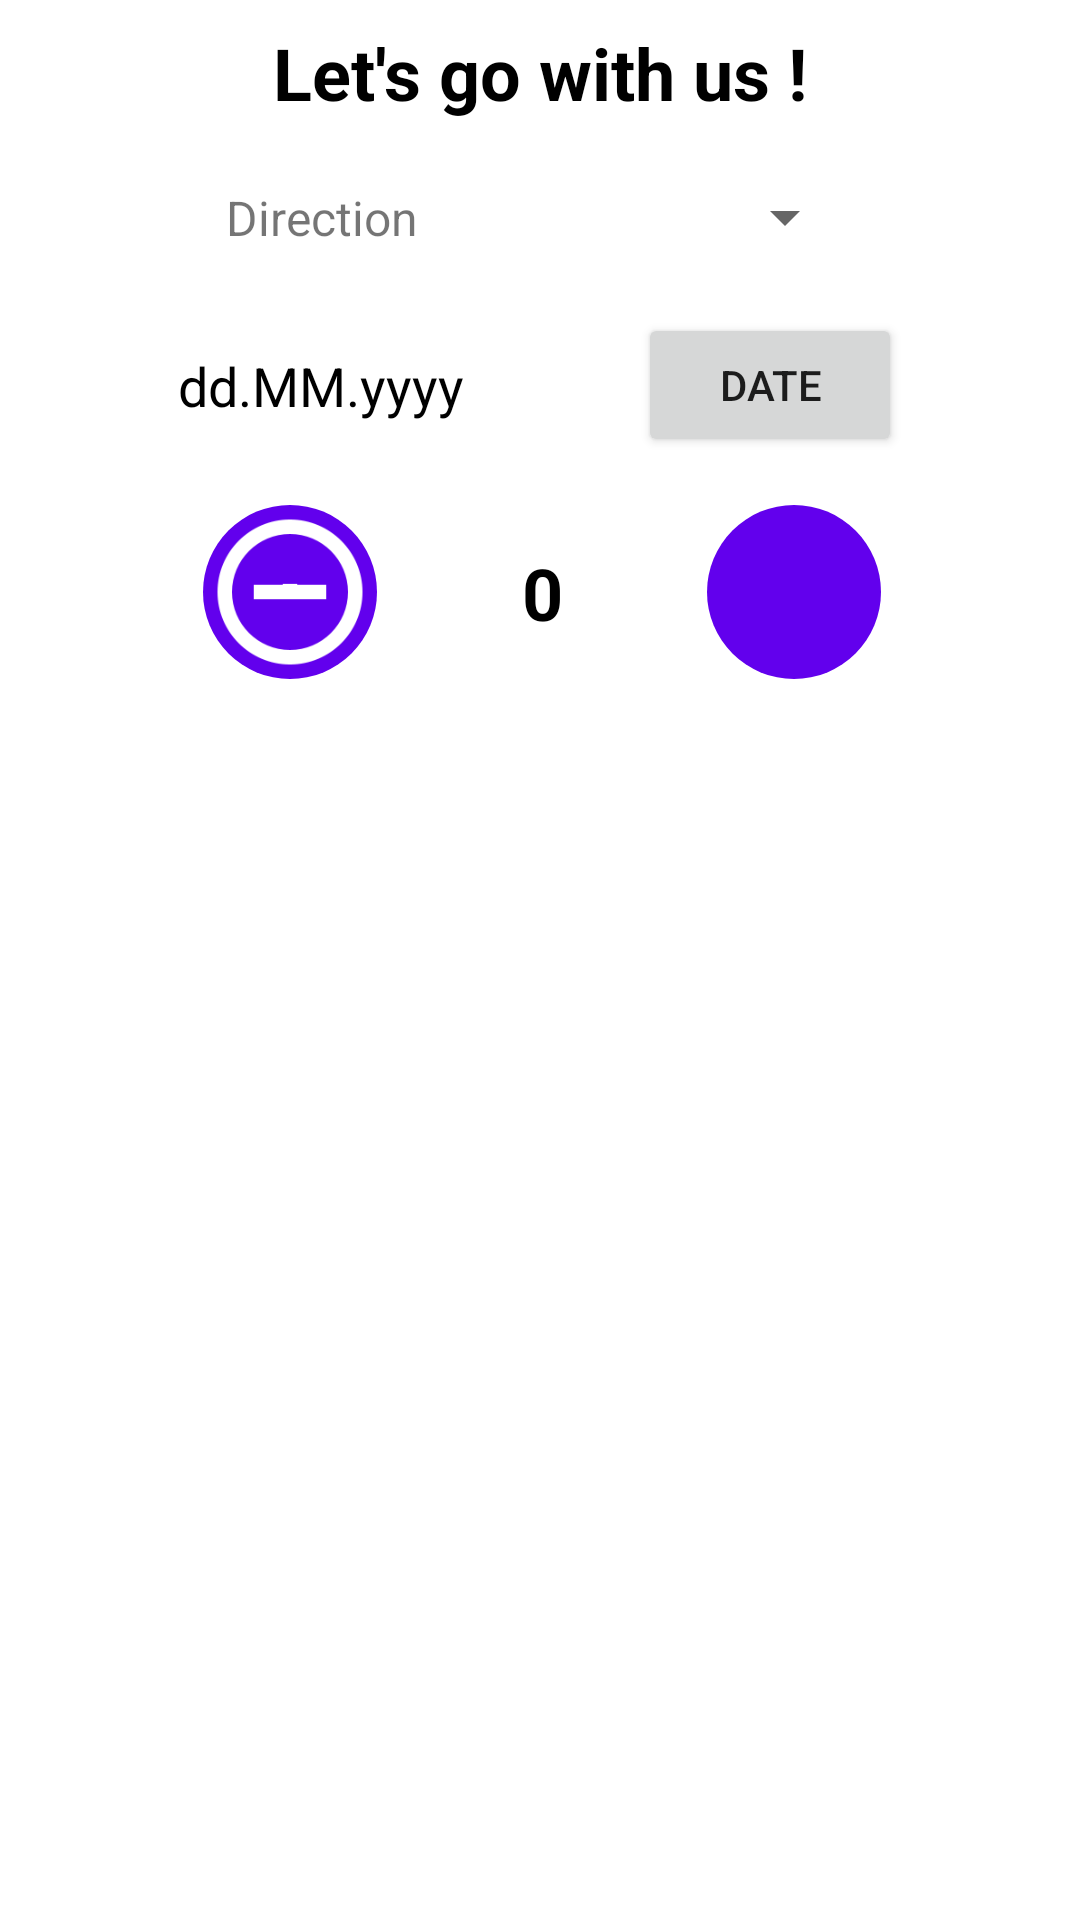

Screen size 1080w x 1920h. Icon name, then its box in pixels as (x1=x1, y1=y1, x2=x2, y2=y2):
minus circle: (x1=203, y1=505, x2=377, y2=679)
